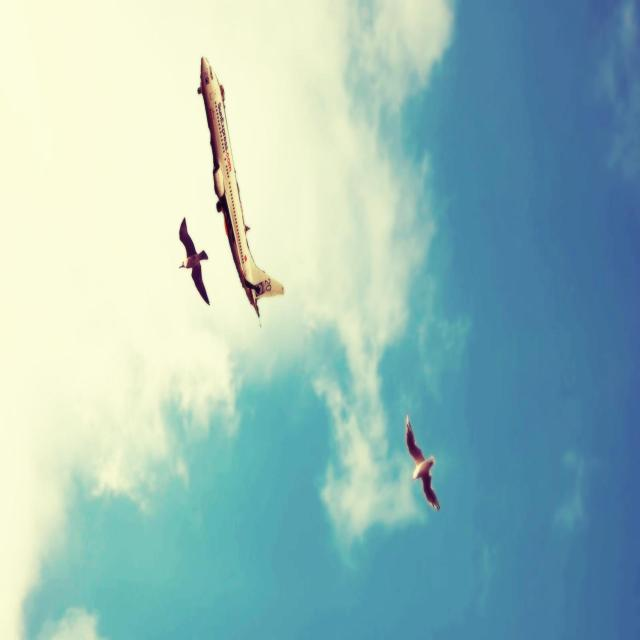airplane: (196, 55, 284, 320)
